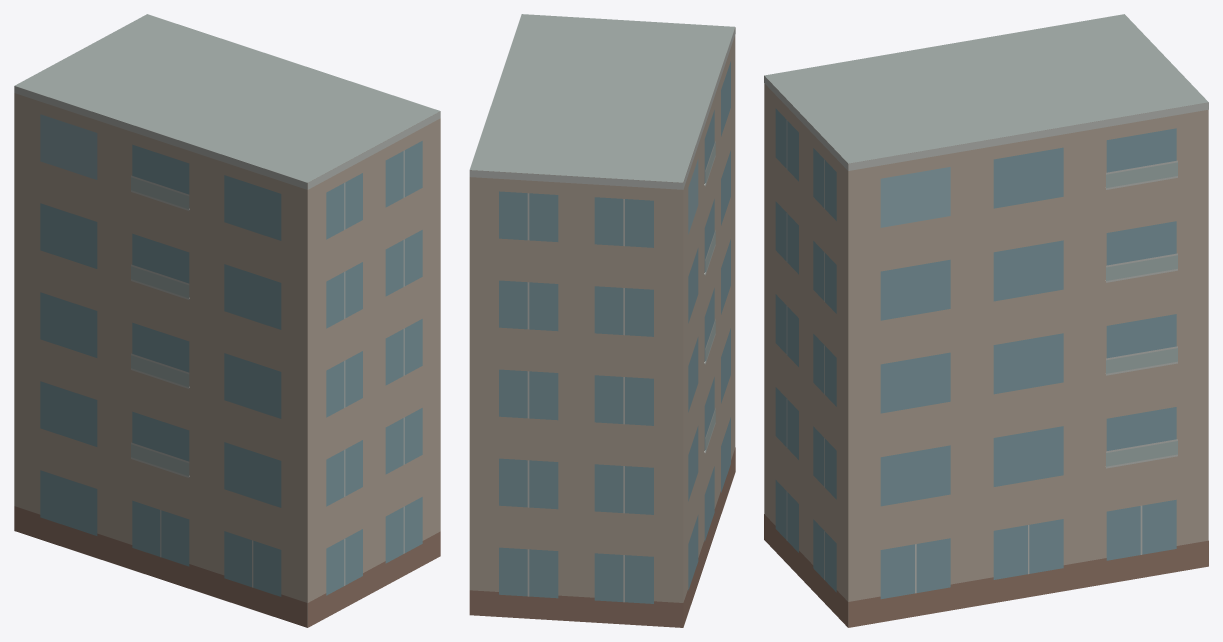
File: residential-6b174222-3dfe-493f-a784-6b48cda2a5b9.glb
3 views of the same model, side by side, from view 1: azimuth 30°, elevation 25°; view 2: azimuth 150°, elevation 25°; view 3: azimuth 270°, elevation 25° (orthographic). The views are drawn at different scales.
Parts seen in each view (by area): view 1: residential-6b174222-3dfe-493f-a784-6b48cda2a5b9.tmp; view 2: residential-6b174222-3dfe-493f-a784-6b48cda2a5b9.tmp; view 3: residential-6b174222-3dfe-493f-a784-6b48cda2a5b9.tmp.
Boxes of the visible parts, <box> form: residential-6b174222-3dfe-493f-a784-6b48cda2a5b9.tmp: <box>14,14,440,627</box>; residential-6b174222-3dfe-493f-a784-6b48cda2a5b9.tmp: <box>469,14,735,627</box>; residential-6b174222-3dfe-493f-a784-6b48cda2a5b9.tmp: <box>764,14,1208,627</box>.
Size of the model in its own units: 10.55 by 15.25 by 13.25.
